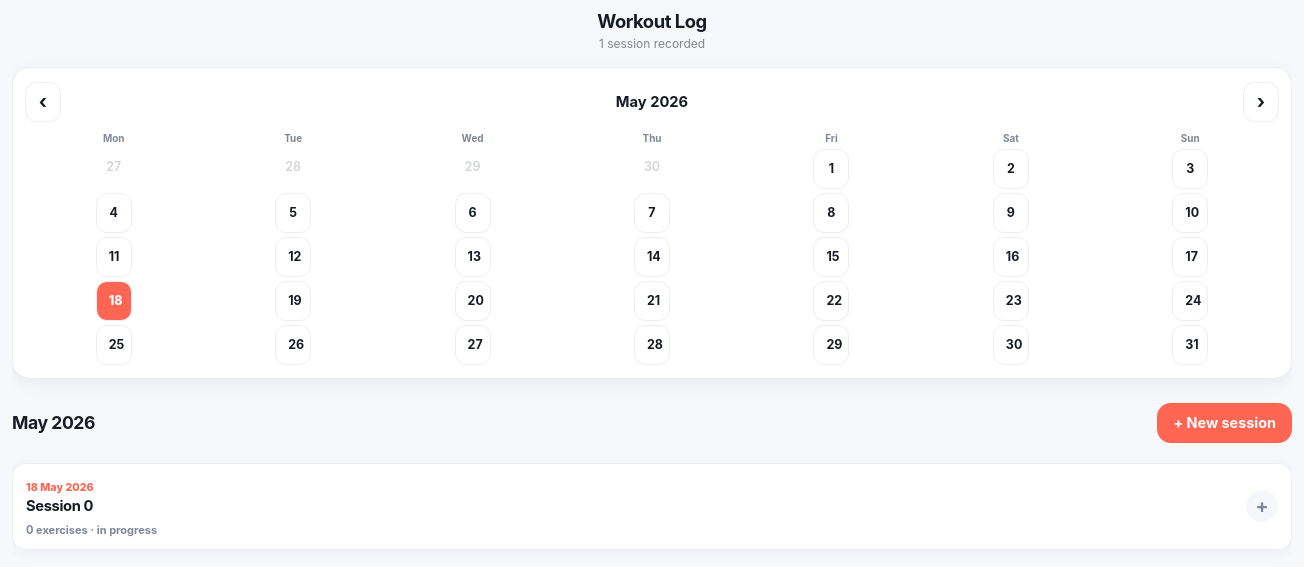
Test: WorkoutLogPage calendar › says so when the day or the month has nothing in it
Click the button named "15 May 2026" at (831, 257), box [813,237,849,277]
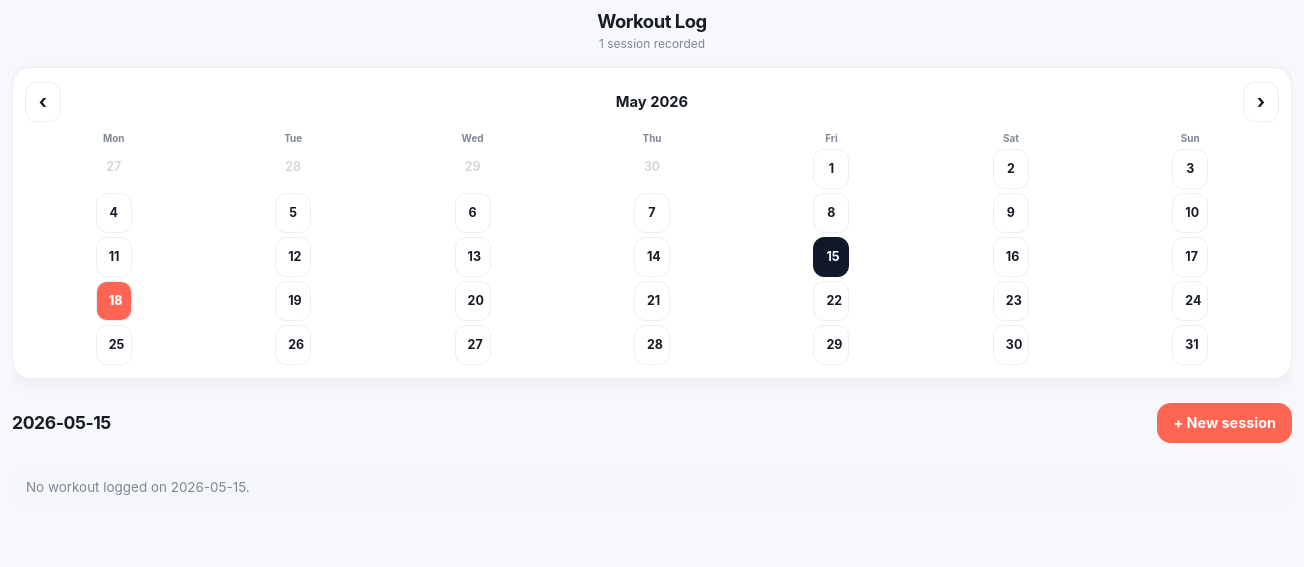
Result: the text "No workout logged on 2026-05-15." is shown at [12,463,1292,511]
Click the button named "Previous month" at (43, 102), box [25,82,61,122]
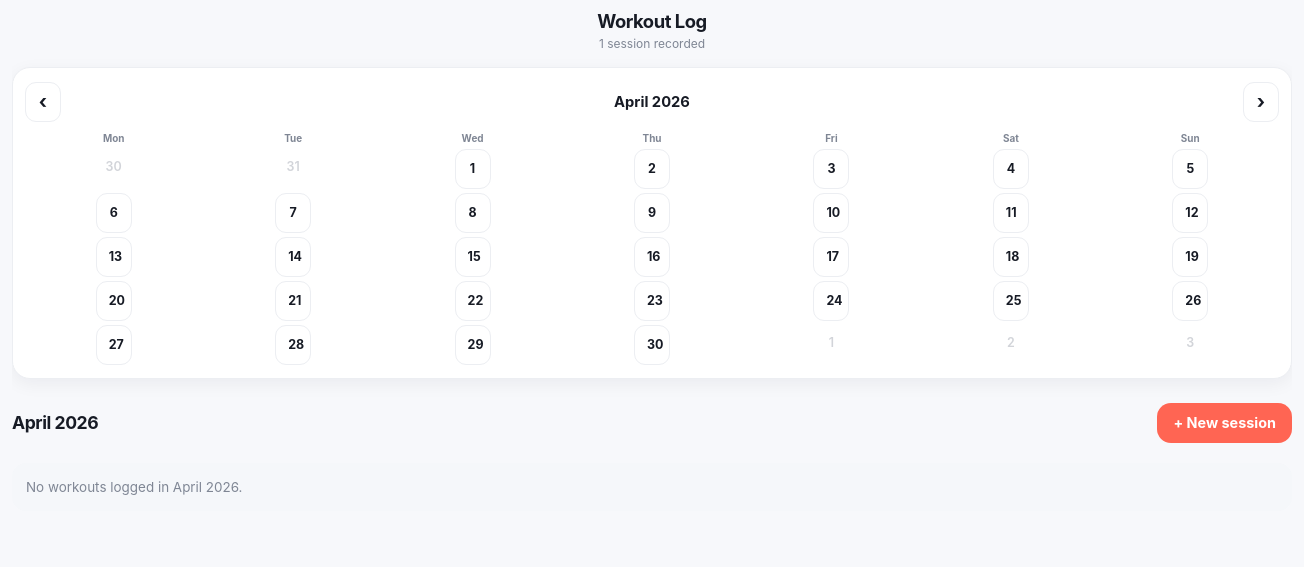
Result: the text "No workouts logged in April 2026." is shown at [12,463,1292,511]
